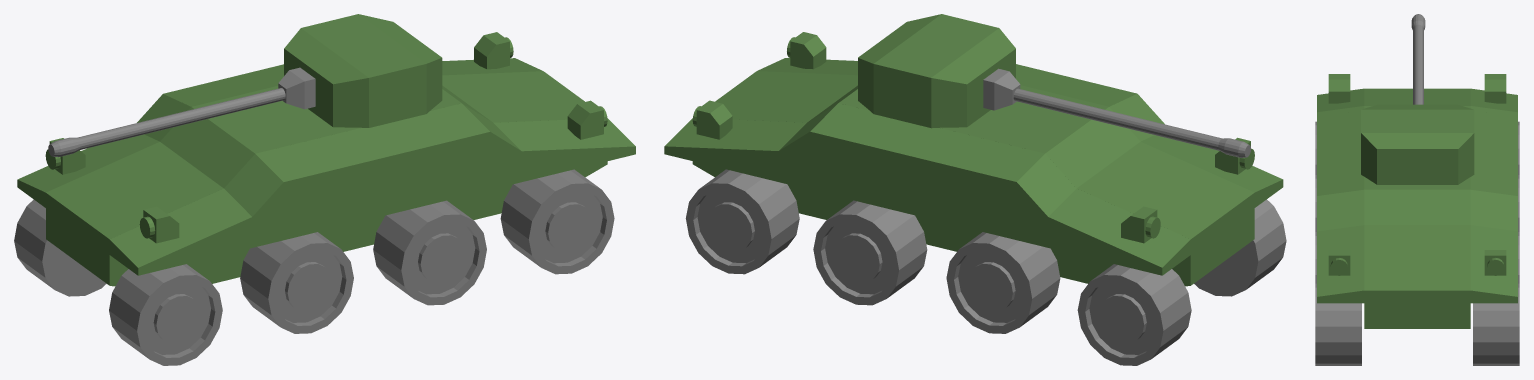
File: tank4.glb
3 views of the same model, side by side, from view 1: azimuth 30°, elevation 25°; view 2: azimuth 150°, elevation 25°; view 3: azimuth 270°, elevation 25° (orthographic). The views are drawn at different scales.
Visible parts, largest first — view 1: Cube.009, Cube.010, Cylinder.017, Cylinder.020, Cylinder.019, Cylinder.018, Cube.011; view 2: Cube.009, Cube.010, Cylinder.017, Cylinder.019, Cylinder.020, Cylinder.018, Cube.011; view 3: Cube.009, Cube.010, Cylinder.020, Cube.011, Cylinder.018, Cylinder.017, Cylinder.019.
Boxes of the visible parts, x1=… form: Cube.009: x1=17, y1=32, x2=635, y2=286; Cube.010: x1=284, y1=14, x2=442, y2=127; Cylinder.017: x1=14, y1=199, x2=222, y2=365; Cylinder.020: x1=500, y1=169, x2=614, y2=274; Cylinder.019: x1=373, y1=200, x2=486, y2=305; Cylinder.018: x1=240, y1=232, x2=353, y2=333; Cube.011: x1=48, y1=67, x2=315, y2=157; Cube.009: x1=664, y1=32, x2=1283, y2=286; Cube.010: x1=858, y1=14, x2=1015, y2=128; Cylinder.017: x1=1077, y1=199, x2=1286, y2=365; Cylinder.019: x1=813, y1=200, x2=927, y2=305; Cylinder.020: x1=685, y1=169, x2=799, y2=274; Cylinder.018: x1=946, y1=232, x2=1060, y2=333; Cube.011: x1=983, y1=68, x2=1250, y2=157; Cube.009: x1=1317, y1=74, x2=1517, y2=328; Cube.010: x1=1361, y1=104, x2=1474, y2=184; Cylinder.020: x1=1315, y1=283, x2=1519, y2=365; Cube.011: x1=1411, y1=14, x2=1425, y2=104; Cylinder.018: x1=1315, y1=175, x2=1519, y2=231; Cylinder.017: x1=1315, y1=121, x2=1519, y2=174; Cylinder.019: x1=1315, y1=232, x2=1519, y2=283.
Size of the model in its own units: 12.87 by 5.13 by 5.24.
